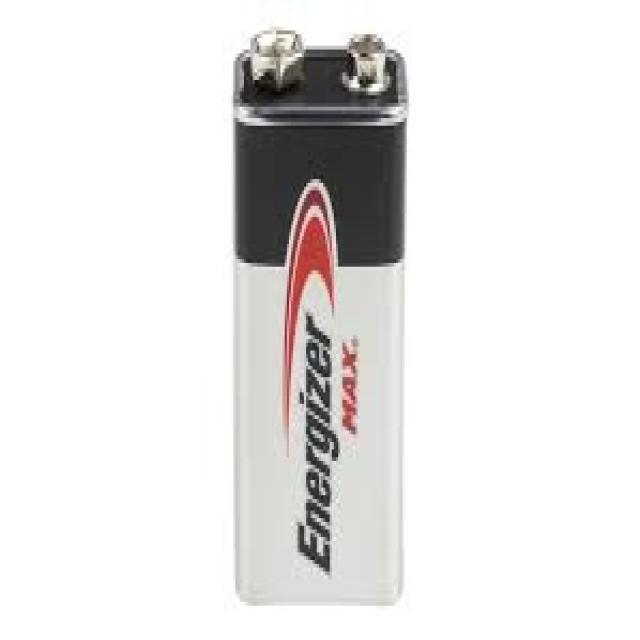battery: (234, 29, 409, 605)
